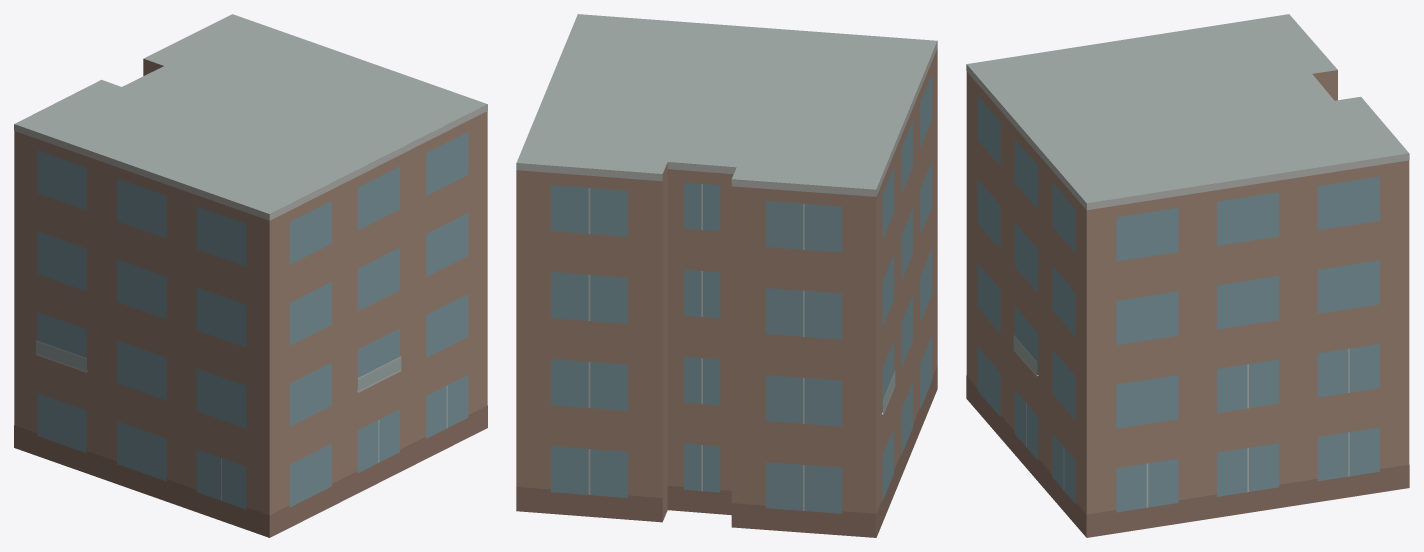
The model's file is survey-upis-32841841.glb.
3 views of the same model, side by side, from view 1: azimuth 30°, elevation 25°; view 2: azimuth 150°, elevation 25°; view 3: azimuth 270°, elevation 25° (orthographic). The views are drawn at different scales.
Parts seen in each view (by area): view 1: survey-upis-32841841.tmp; view 2: survey-upis-32841841.tmp; view 3: survey-upis-32841841.tmp.
Part boxes in pixels (box(x1,y1,x2,y2)): survey-upis-32841841.tmp: box(14, 14, 487, 537); survey-upis-32841841.tmp: box(516, 14, 937, 537); survey-upis-32841841.tmp: box(966, 14, 1409, 537).
Size of the model in its own units: 14.33 by 11.8 by 14.17.
